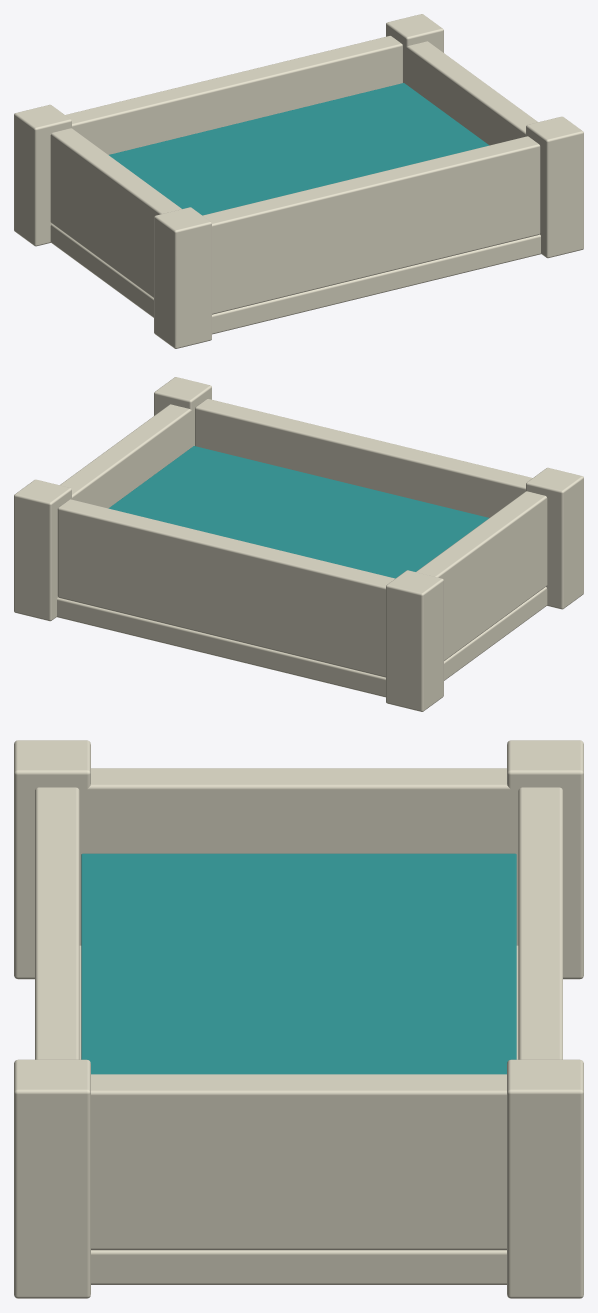
The model's file is water-clock-garden-and-hydraulic-puzzles-overflow-rece-718836f0__31957.glb.
3 renders of one model, top to bottom at view 1: azimuth 30°, elevation 25°; view 2: azimuth 150°, elevation 25°; view 3: azimuth 270°, elevation 25°, orthographic. The views are drawn at different scales.
Parts seen in each view (by area): view 1: overflow-receiving-cistern; view 2: overflow-receiving-cistern; view 3: overflow-receiving-cistern.
Boxes of the visible parts, left/top/right/bottom form: overflow-receiving-cistern: left=14, top=14, right=583, bottom=348; overflow-receiving-cistern: left=14, top=377, right=583, bottom=711; overflow-receiving-cistern: left=14, top=740, right=583, bottom=1298.
Bounding box in the file's own units: 2.6 × 0.7199 × 1.78.
